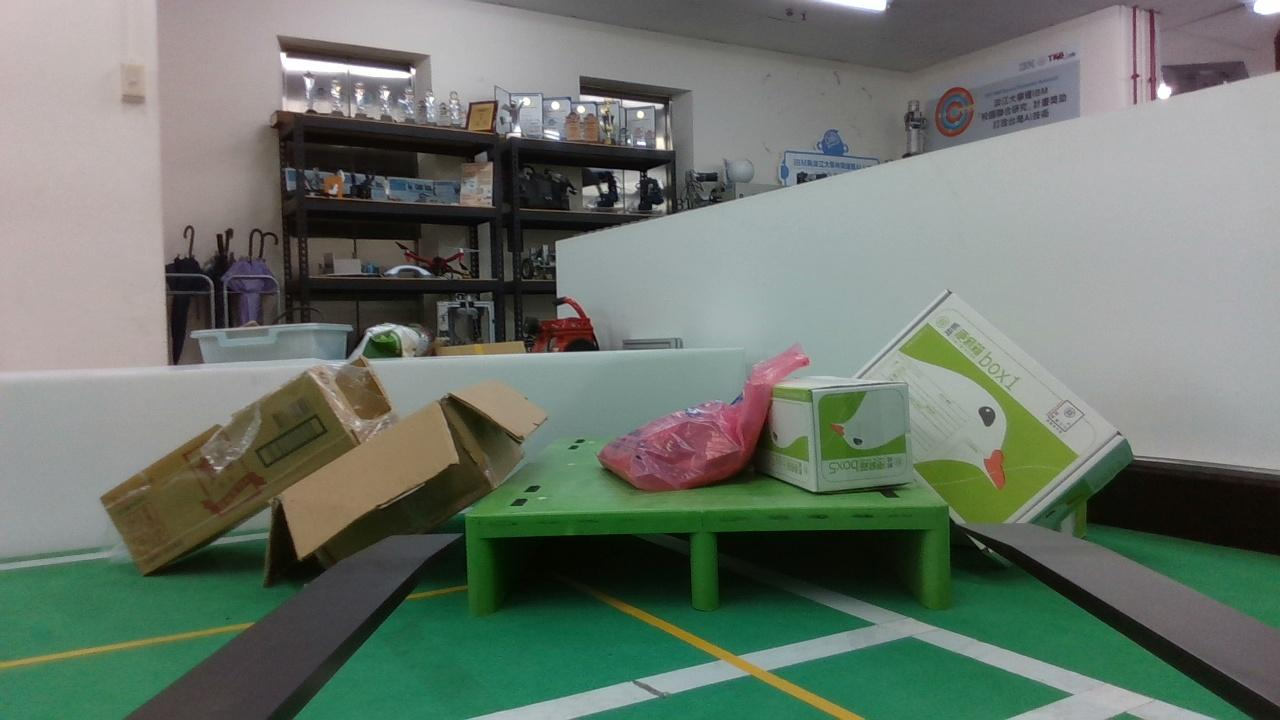Pallet: (464, 501, 953, 619)
